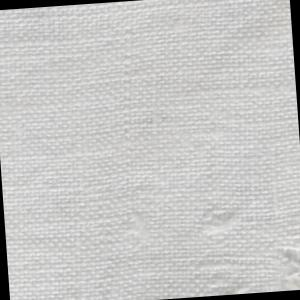Damage: (267, 229, 300, 293), (197, 196, 244, 240)
